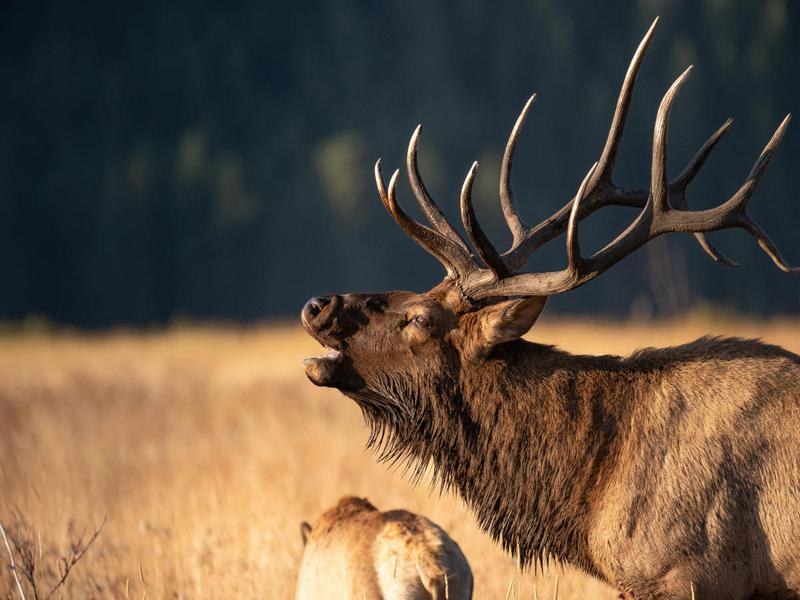elk: (295, 44, 800, 600)
